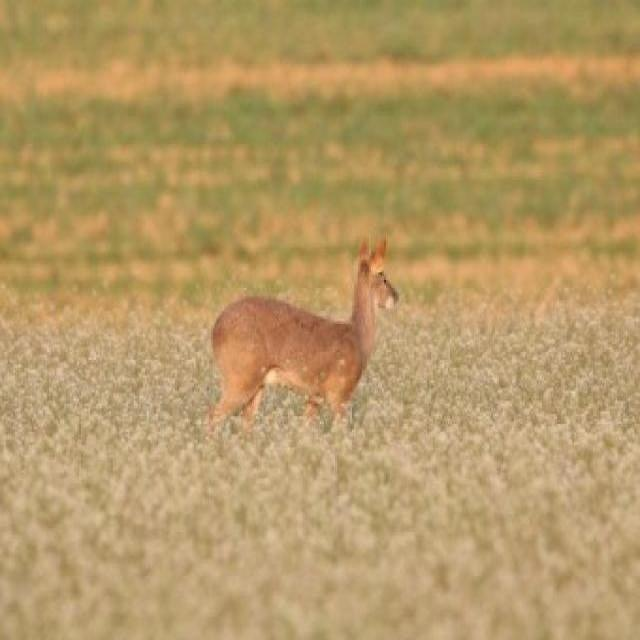deer: (184, 232, 417, 468)
